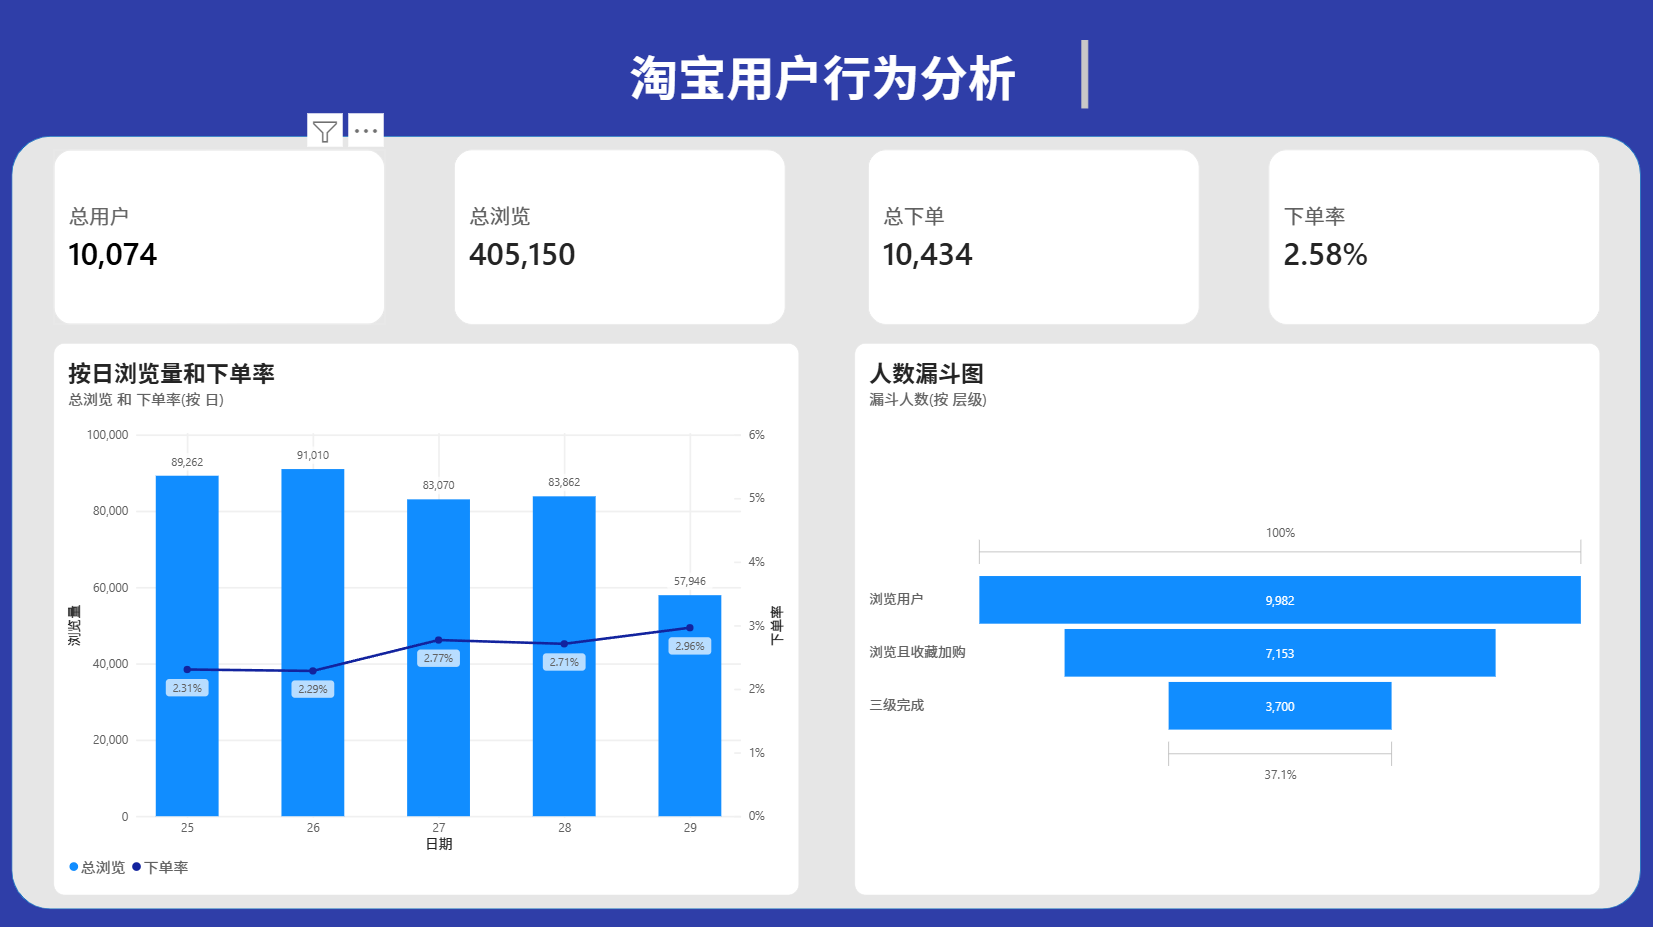

This screenshot's page, from the dashboard's own definition file:
{"tool":"powerbi","page":{"name":"经营总览","canvas":[1920,1080],"ordinal":0},"visuals":[{"type":"shape","box":[16,160,1888,896],"z":0},{"type":"cardVisual","fields":{"Data":["v_data_valid.总用户"]},"box":[64,176,384.1,203.4],"z":1000},{"type":"cardVisual","fields":{"Data":["v_data_valid.总浏览"]},"box":[528,176,384.1,203.4],"z":2000},{"type":"cardVisual","fields":{"Data":["v_data_valid.总下单"]},"box":[1008,176,384.1,203.4],"z":3000},{"type":"cardVisual","fields":{"Data":["v_data_valid.下单浏览转化率"]},"box":[1472,176,384.1,203.4],"z":4000},{"type":"lineClusteredColumnComboChart","title":"按日浏览量和下单率","fields":{"Category":["v_data_valid.operate_date.变体.日期层次结构.日"],"Y":["v_data_valid.总浏览"],"Y2":["v_data_valid.下单率"]},"box":[64,400,864,640],"z":5000},{"type":"funnel","title":"人数漏斗图","fields":{"Category":["漏斗层级.层级"],"Y":["v_data_valid.漏斗人数"]},"box":[992,400,864,640],"z":6000},{"type":"textbox","box":[656,48,608,80],"z":7000}]}

Visuals, with their boxes in screenshot pixels (x1, y1, x2, y2), scaled from the page's 1920x1080 canvas onto the 1653x927 screenshot:
shape: x1=14 y1=137 x2=1639 y2=906
cardVisual - v_data_valid.总用户: x1=55 y1=151 x2=386 y2=326
cardVisual - v_data_valid.总浏览: x1=455 y1=151 x2=785 y2=326
cardVisual - v_data_valid.总下单: x1=868 y1=151 x2=1199 y2=326
cardVisual - v_data_valid.下单浏览转化率: x1=1267 y1=151 x2=1598 y2=326
"按日浏览量和下单率" lineClusteredColumnComboChart: x1=55 y1=343 x2=799 y2=893
"人数漏斗图" funnel: x1=854 y1=343 x2=1598 y2=893
textbox: x1=565 y1=41 x2=1088 y2=110
